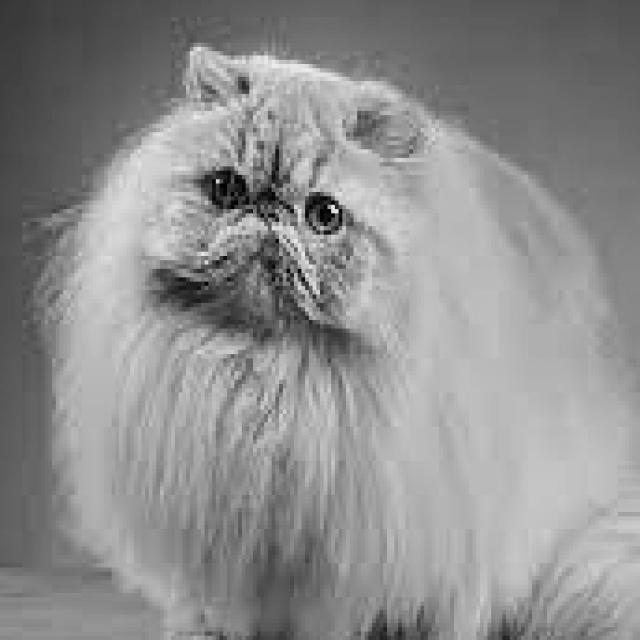iran: (126, 18, 430, 346)
